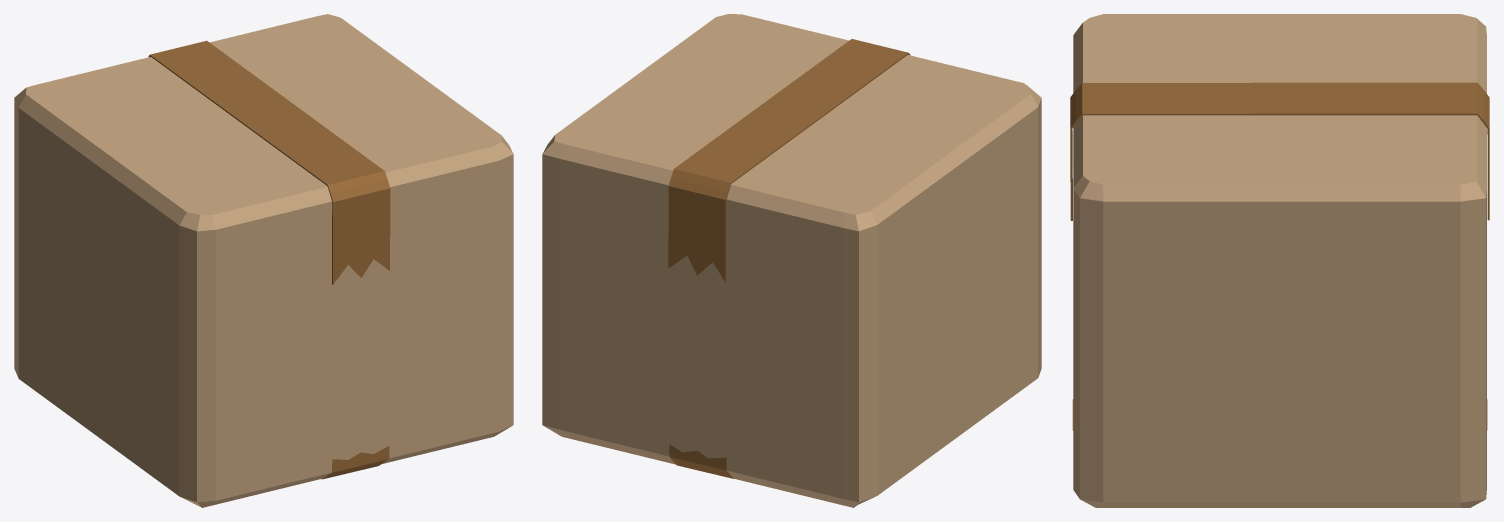
Rendered from kutu_low_polygon_2.fbx.
3 renders of one model, left to right at view 1: azimuth 30°, elevation 25°; view 2: azimuth 150°, elevation 25°; view 3: azimuth 270°, elevation 25°, orthographic. The views are drawn at different scales.
Visible parts, largest first — view 1: Cube, bant; view 2: Cube, bant; view 3: Cube, bant.
Part boxes in pixels (left/top/right/bottom): Cube: left=14, top=14, right=513, bottom=507; bant: left=148, top=40, right=390, bottom=479; Cube: left=542, top=14, right=1041, bottom=507; bant: left=668, top=39, right=910, bottom=478; Cube: left=1073, top=14, right=1486, bottom=507; bant: left=1070, top=82, right=1489, bottom=430.
Bounding box in the file's own units: 208 × 181 × 207.
